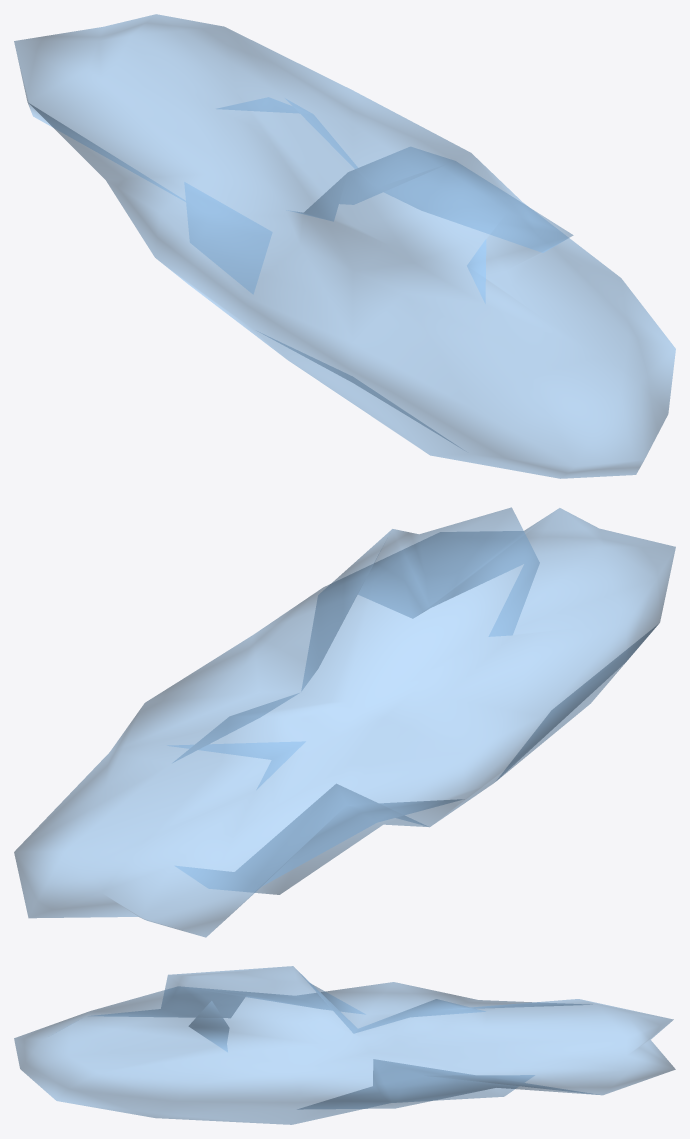
Rendered from tlancer_shield.gltf.
3 views of the same model, one above another, from view 1: azimuth 30°, elevation 25°; view 2: azimuth 150°, elevation 25°; view 3: azimuth 270°, elevation 25° (orthographic). The views are drawn at different scales.
Parts seen in each view (by area): view 1: tlancer.shield; view 2: tlancer.shield; view 3: tlancer.shield.
Boxes of the visible parts, x1,y1,x2,y2 form: tlancer.shield: (14,14,675,478); tlancer.shield: (14,507,675,937); tlancer.shield: (14,966,675,1124).
Size of the model in its own units: 7.74 by 4.99 by 23.04.
